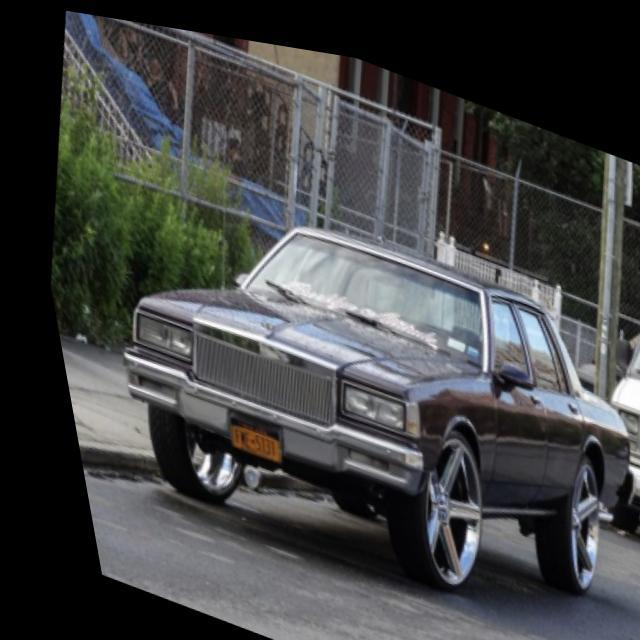license_plate: (201, 406, 274, 465)
